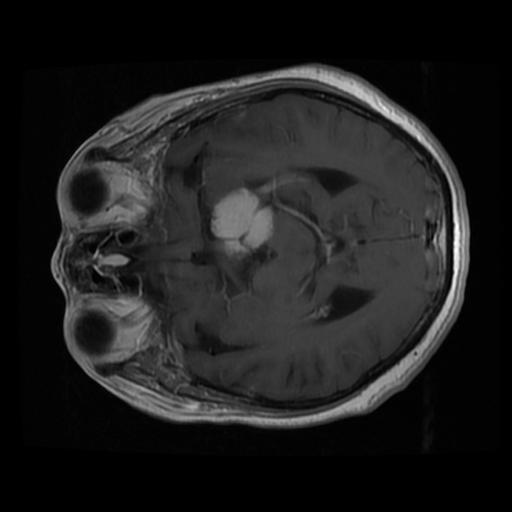meningioma: (209, 187, 273, 261)
